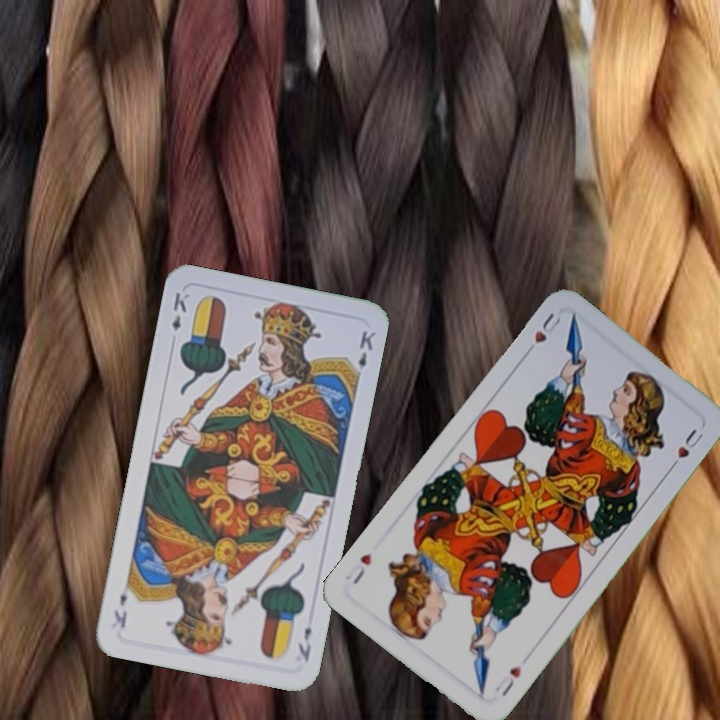EK: (168, 288, 192, 334), (294, 623, 314, 664)
HU: (520, 308, 564, 359), (490, 662, 524, 700)
